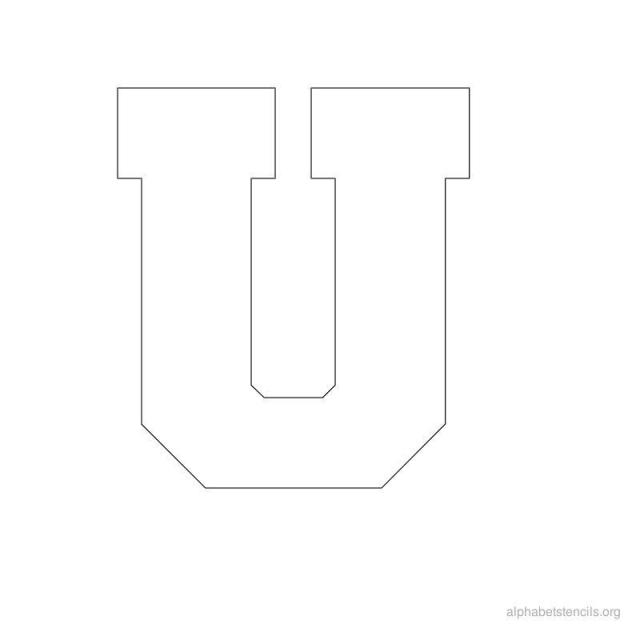U: (72, 44, 500, 546)
